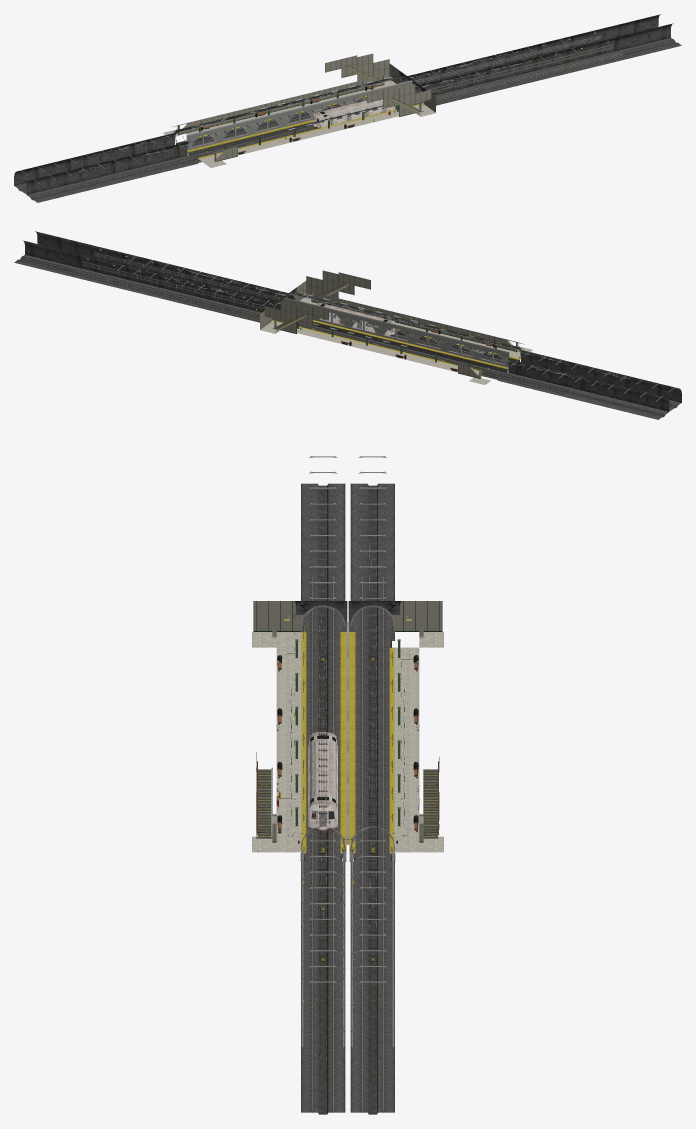
Rendered from metro.glb.
3 views of the same model, one above another, from view 1: azimuth 30°, elevation 25°; view 2: azimuth 150°, elevation 25°; view 3: azimuth 270°, elevation 25° (orthographic). The views are drawn at different scales.
Parts seen in each view (by area): view 1: mt_station, mt_car; view 2: mt_station, mt_car; view 3: mt_station, mt_car.
Part boxes in pixels (left/top/right/bottom): mt_station: left=14, top=14, right=681, bottom=202; mt_car: left=313, top=99, right=395, bottom=128; mt_station: left=14, top=231, right=681, bottom=419; mt_car: left=316, top=303, right=395, bottom=336; mt_station: left=252, top=456, right=443, bottom=1114; mt_car: left=308, top=732, right=337, bottom=834.
Size of the model in its own units: 200 by 10.91 by 27.3.
Materials: 58 (57 with a texture image).
